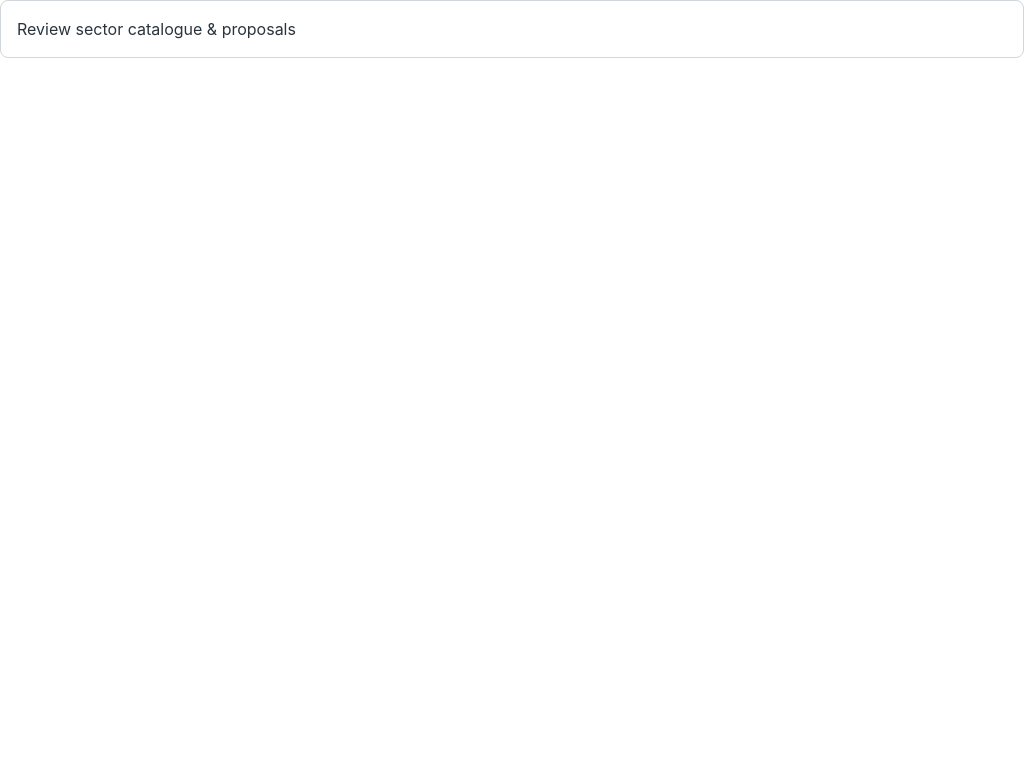
HQ sector proposals › includes a legacy partner source even when Explorer has a different classification
The image size is (1024, 768).
Click the button "Review sector catalogue & proposals" at (156, 29), box x1=17 y1=17 x2=296 y2=41
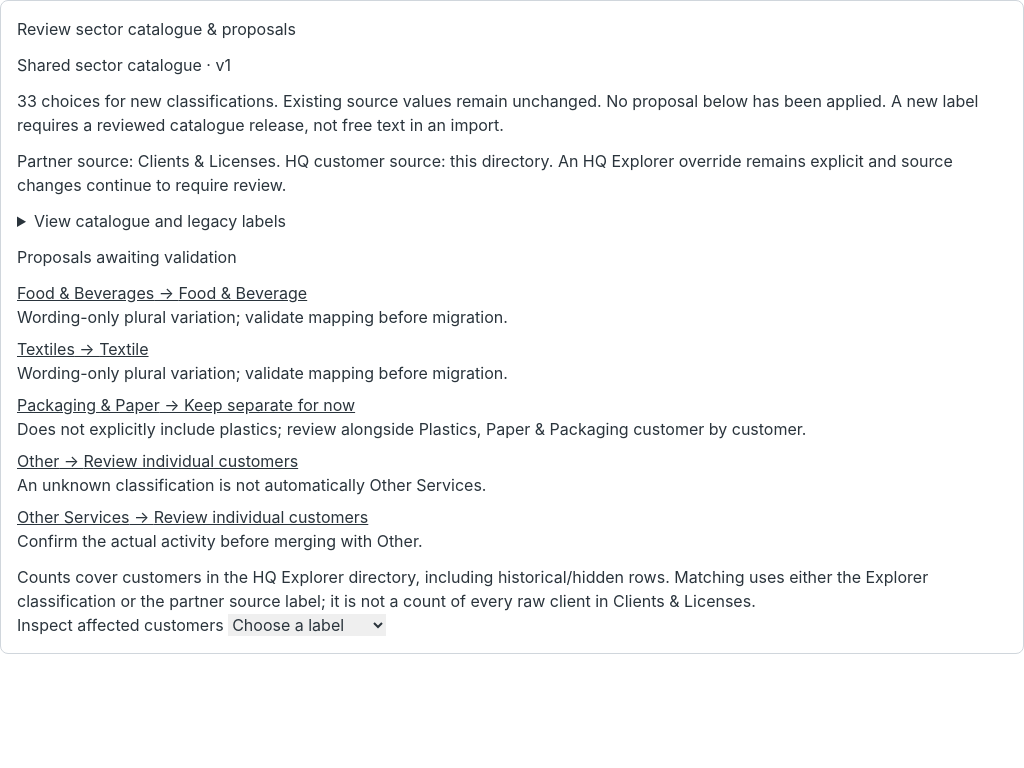
Click the button "Food & Beverages → Food & Beverage" at (162, 293), box x1=17 y1=281 x2=307 y2=305
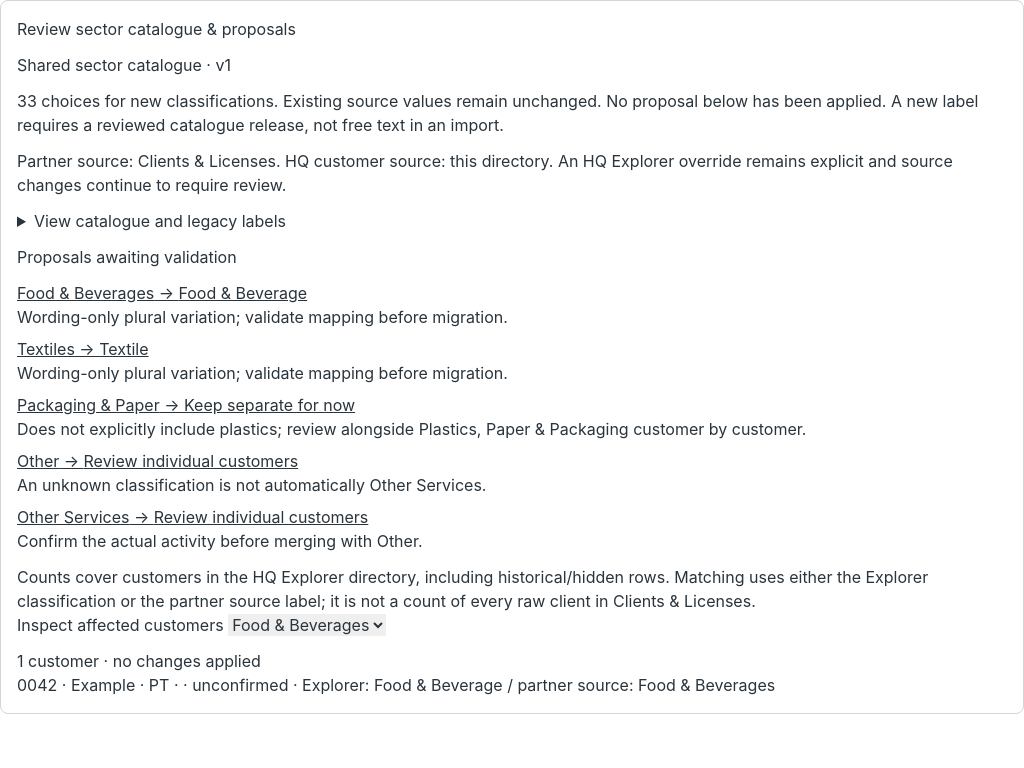
Expected: the text "1 customer · no changes applied" is shown, x1=17 y1=651 x2=261 y2=671
Expected: the list item "Explorer: Food & Beverage / partner source: Food & Beverages" is shown, x1=17 y1=675 x2=775 y2=695
